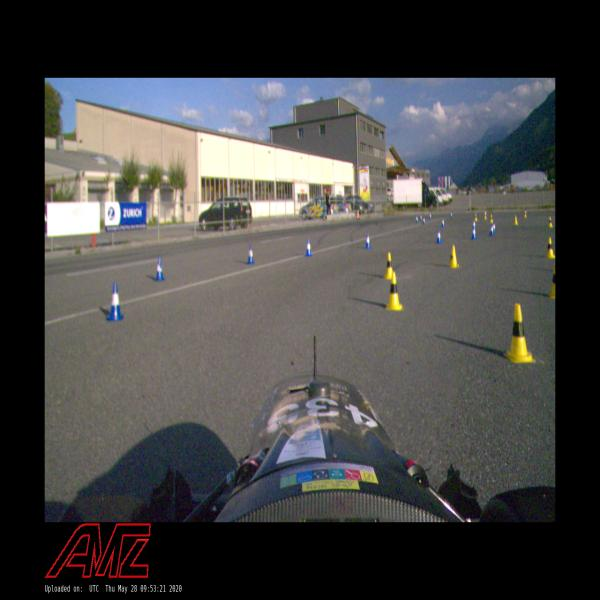blue_cone: (107, 282, 124, 320), (154, 256, 165, 281), (304, 238, 312, 256), (247, 245, 254, 264), (364, 232, 371, 249), (436, 228, 442, 244), (471, 227, 477, 240), (490, 224, 494, 236), (472, 219, 476, 230), (492, 222, 496, 232), (441, 217, 445, 227), (429, 212, 432, 220), (450, 211, 453, 218), (423, 216, 425, 225), (416, 215, 418, 223), (420, 214, 422, 220)
yellow_cone: (503, 303, 536, 363), (384, 272, 403, 311), (384, 252, 395, 280), (449, 244, 460, 268), (549, 263, 555, 299), (546, 237, 555, 259), (548, 216, 552, 228), (514, 215, 518, 225), (490, 214, 494, 223), (474, 212, 477, 222), (524, 210, 527, 218)
